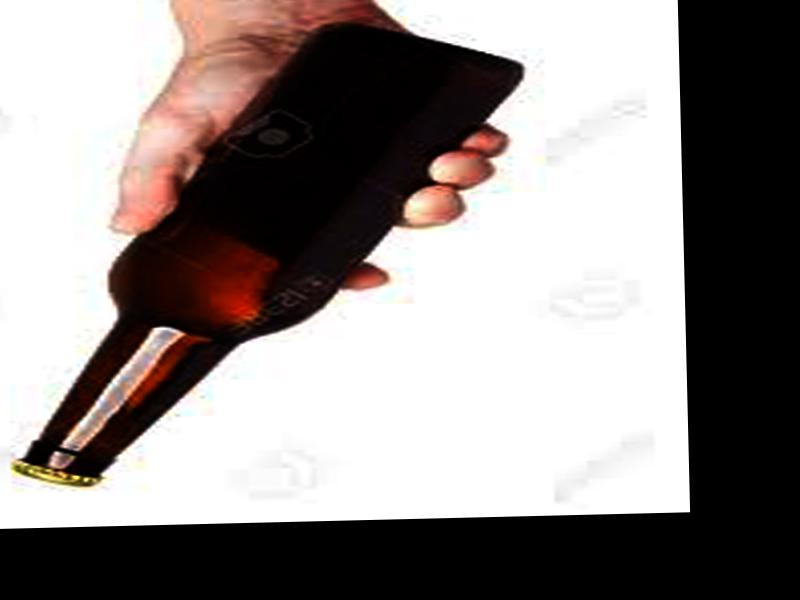Beer: (0, 21, 527, 487)
